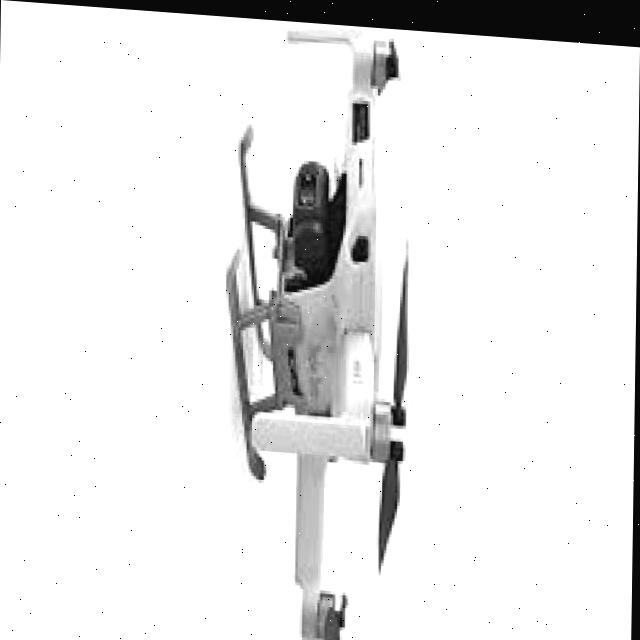drone: (208, 13, 452, 640)
